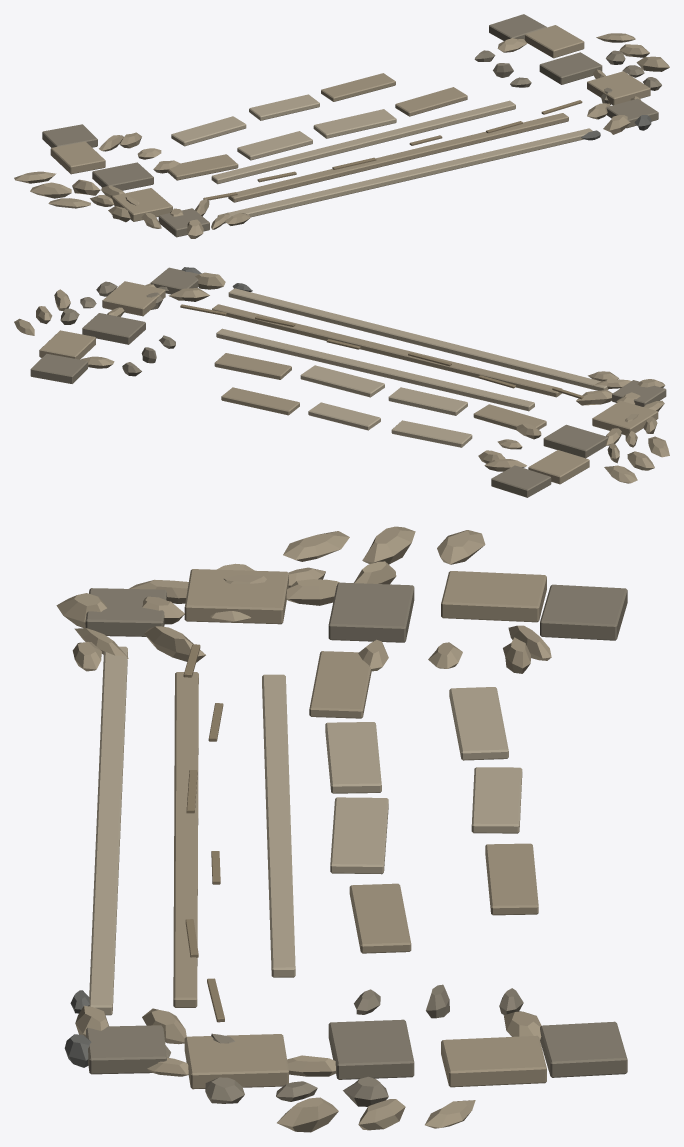
File: gate-threshold-transition.glb
3 renders of one model, top to bottom at view 1: azimuth 30°, elevation 25°; view 2: azimuth 150°, elevation 25°; view 3: azimuth 270°, elevation 25°, orthographic. The views are drawn at different scales.
Parts seen in each view (by area): view 1: gate_threshold_worn_stair_nose_0, gate_threshold_worn_stair_nose_1, gate_threshold_worn_stair_nose_2, gate_threshold_side_curb_r_1, gate_threshold_side_curb_r_2, gate_threshold_settled_slab_2, gate_threshold_side_curb_r_3, gate_threshold_side_curb_l_3, gate_threshold_side_curb_l_2, gate_threshold_side_curb_l_1, gate_threshold_settled_slab_1, gate_threshold_settled_slab_4 (+11 smaller); view 2: gate_threshold_worn_stair_nose_0, gate_threshold_worn_stair_nose_2, gate_threshold_worn_stair_nose_1, gate_threshold_side_curb_r_1, gate_threshold_side_curb_l_2, gate_threshold_side_curb_r_2, gate_threshold_settled_slab_2, gate_threshold_side_curb_l_1, gate_threshold_side_curb_l_4, gate_threshold_side_curb_r_4, gate_threshold_side_curb_l_3, gate_threshold_settled_slab_1 (+14 smaller); view 3: gate_threshold_worn_stair_nose_0, gate_threshold_worn_stair_nose_1, gate_threshold_worn_stair_nose_2, gate_threshold_side_curb_r_1, gate_threshold_side_curb_r_3, gate_threshold_side_curb_l_3, gate_threshold_side_curb_l_1, gate_threshold_side_curb_l_2, gate_threshold_side_curb_r_2, gate_threshold_side_curb_l_4, gate_threshold_side_curb_r_4, gate_threshold_settled_slab_2 (+21 smaller).
Part boxes in pixels (left/top/right/bottom): gate_threshold_worn_stair_nose_0: left=217, top=128, right=592, bottom=223; gate_threshold_worn_stair_nose_1: left=228, top=113, right=568, bottom=202; gate_threshold_worn_stair_nose_2: left=211, top=100, right=515, bottom=184; gate_threshold_side_curb_r_1: left=587, top=71, right=650, bottom=105; gate_threshold_side_curb_r_2: left=539, top=52, right=602, bottom=84; gate_threshold_settled_slab_2: left=313, top=109, right=396, bottom=138; gate_threshold_side_curb_r_3: left=525, top=25, right=584, bottom=58; gate_threshold_side_curb_l_3: left=50, top=141, right=105, bottom=174; gate_threshold_side_curb_l_2: left=92, top=162, right=153, bottom=190; gate_threshold_side_curb_l_1: left=112, top=188, right=172, bottom=221; gate_threshold_settled_slab_1: left=237, top=131, right=312, bottom=160; gate_threshold_settled_slab_4: left=171, top=116, right=246, bottom=146; gate_threshold_worn_stair_nose_0: left=228, top=288, right=608, bottom=390; gate_threshold_worn_stair_nose_2: left=216, top=328, right=534, bottom=411; gate_threshold_worn_stair_nose_1: left=212, top=304, right=562, bottom=397; gate_threshold_side_curb_r_1: left=102, top=281, right=165, bottom=316; gate_threshold_side_curb_l_2: left=543, top=424, right=607, bottom=458; gate_threshold_side_curb_r_2: left=82, top=313, right=145, bottom=344; gate_threshold_settled_slab_2: left=300, top=365, right=384, bottom=397; gate_threshold_side_curb_l_1: left=592, top=400, right=658, bottom=434; gate_threshold_side_curb_l_4: left=491, top=465, right=551, bottom=497; gate_threshold_side_curb_r_4: left=30, top=353, right=87, bottom=383; gate_threshold_side_curb_l_3: left=528, top=450, right=589, bottom=484; gate_threshold_settled_slab_1: left=388, top=387, right=467, bottom=415; gate_threshold_worn_stair_nose_0: left=89, top=646, right=127, bottom=1015; gate_threshold_worn_stair_nose_1: left=173, top=672, right=198, bottom=1007; gate_threshold_worn_stair_nose_2: left=262, top=674, right=295, bottom=977; gate_threshold_side_curb_r_1: left=184, top=1034, right=288, bottom=1089; gate_threshold_side_curb_r_3: left=441, top=1035, right=546, bottom=1087; gate_threshold_side_curb_l_3: left=441, top=571, right=546, bottom=622; gate_threshold_side_curb_l_1: left=184, top=569, right=288, bottom=624; gate_threshold_side_curb_l_2: left=328, top=582, right=414, bottom=642; gate_threshold_side_curb_r_2: left=328, top=1019, right=414, bottom=1079; gate_threshold_side_curb_l_4: left=540, top=584, right=627, bottom=640; gate_threshold_side_curb_r_4: left=540, top=1021, right=627, bottom=1077; gate_threshold_settled_slab_2: left=330, top=797, right=388, bottom=874.
Size of the model in its own units: 9.47 by 0.2306 by 3.82.
